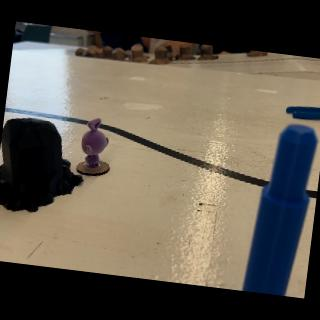teletubby: (81, 118, 109, 168)
